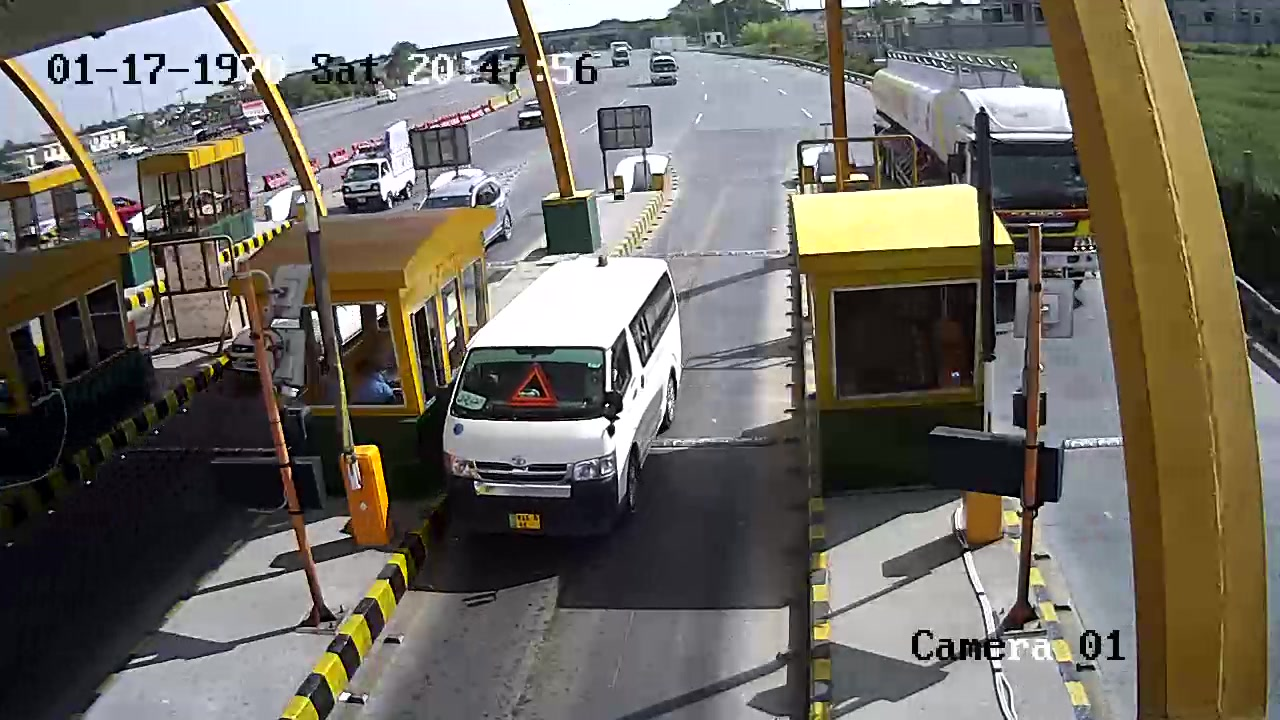F3: (438, 251, 685, 542)
